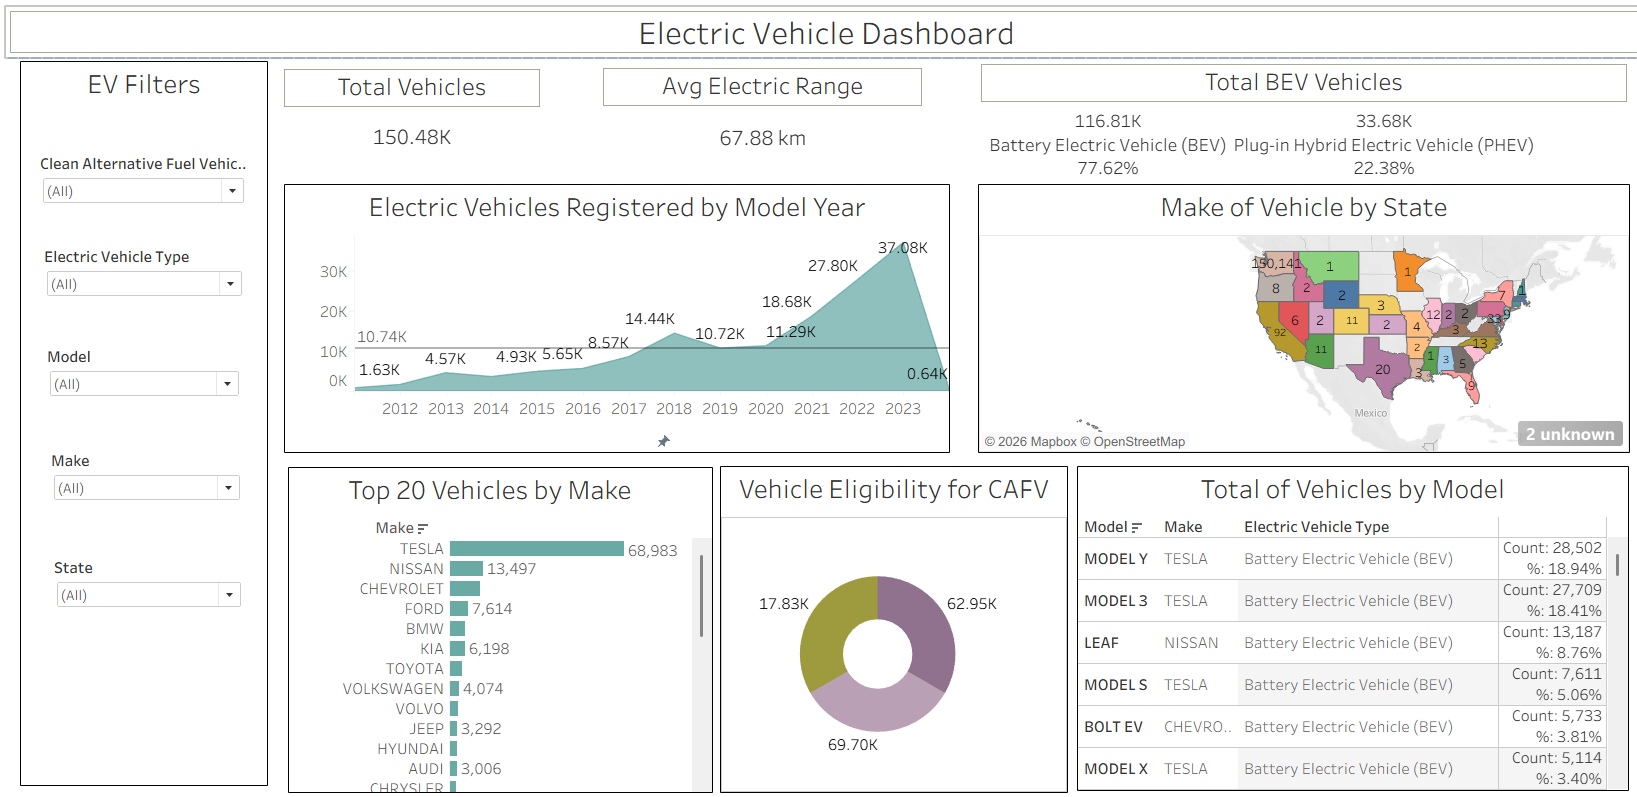

What the dashboard file says about the page in this screenshot:
{"tool":"tableau","page":{"name":"Dashboard 1","canvas":[1000,1000],"units":"permille","ordinal":0},"visuals":[{"type":"title","box":[4.8,10,990.3,62.4]},{"type":"dashboard-object","box":[787.6,76.2,14.5,30]},{"type":"worksheet","title":"Filters","mark":"Automatic","box":[13.3,77.4,149.7,905.1]},{"type":"worksheet","title":"Card3","mark":"Text","box":[593.2,81.2,389.9,139.8]},{"type":"worksheet","title":"Card2","mark":"Automatic","box":[365.1,86.1,192.5,122.4]},{"type":"worksheet","title":"Card1","mark":"Text","box":[172.6,87.4,154.5,117.4]},{"type":"filter","title":"Filters","param":"[federated.0eutsib14m85a81ch1ct6134tca4].[none:Clean Alternative Fuel Vehicle (C","box":[25.4,192.3,124.9,66.2]},{"type":"worksheet","title":"Area","mark":"Area","rows":["DOL Vehicle ID"],"cols":["Model Year"],"box":[172.6,231,401.9,335.8]},{"type":"worksheet","title":"Map","mark":"Multipolygon","box":[591.4,231,393.5,335.8]},{"type":"filter","title":"Filters","param":"[federated.0eutsib14m85a81ch1ct6134tca4].[none:Electric Vehicle Type:nk]","box":[27.8,308.4,121.3,66.2]},{"type":"filter","title":"Filters","param":"[federated.0eutsib14m85a81ch1ct6134tca4].[none:Model:nk]","box":[29.6,433.2,117.7,66.2]},{"type":"filter","title":"Filters","param":"[federated.0eutsib14m85a81ch1ct6134tca4].[none:Make:nk]","box":[32,563.1,115.9,66.2]},{"type":"worksheet","title":"Donut","mark":"Pie","cols":["Calculation_0336196723826689","Calculation_0336196723826689"],"box":[435.7,583,210,408.2]},{"type":"worksheet","title":"Table","mark":"Text","rows":["Model","Make","Electric Vehicle Type"],"box":[651.2,583,333.1,405.7]},{"type":"worksheet","title":"Bar","mark":"Bar","rows":["Make"],"cols":["Make"],"box":[175,584.3,256.5,407]},{"type":"filter","title":"Filters","param":"[federated.0eutsib14m85a81ch1ct6134tca4].[none:State:nk]","box":[33.8,696.6,114.7,66.2]}]}

Visuals, with their boxes on the dashboard's canvas, which has no fixed pixel size, in thousandths of its width and height (x1, y1, x2, y2). These are canvas units, not pixel positions in the 1637x797 screenshot, which may show the page scaled, cropped or inside an application window:
title: 5 10 995 72
dashboard-object: 788 76 802 106
"Filters" worksheet: 13 77 163 982
"Card3" worksheet (Text marks): 593 81 983 221
"Card2" worksheet: 365 86 558 208
"Card1" worksheet (Text marks): 173 87 327 205
"Filters" filter: 25 192 150 258
"Area" worksheet (Area marks): 173 231 574 567
"Map" worksheet (Multipolygon marks): 591 231 985 567
"Filters" filter: 28 308 149 375
"Filters" filter: 30 433 147 499
"Filters" filter: 32 563 148 629
"Donut" worksheet (Pie marks): 436 583 646 991
"Table" worksheet (Text marks): 651 583 984 989
"Bar" worksheet (Bar marks): 175 584 432 991
"Filters" filter: 34 697 148 763
